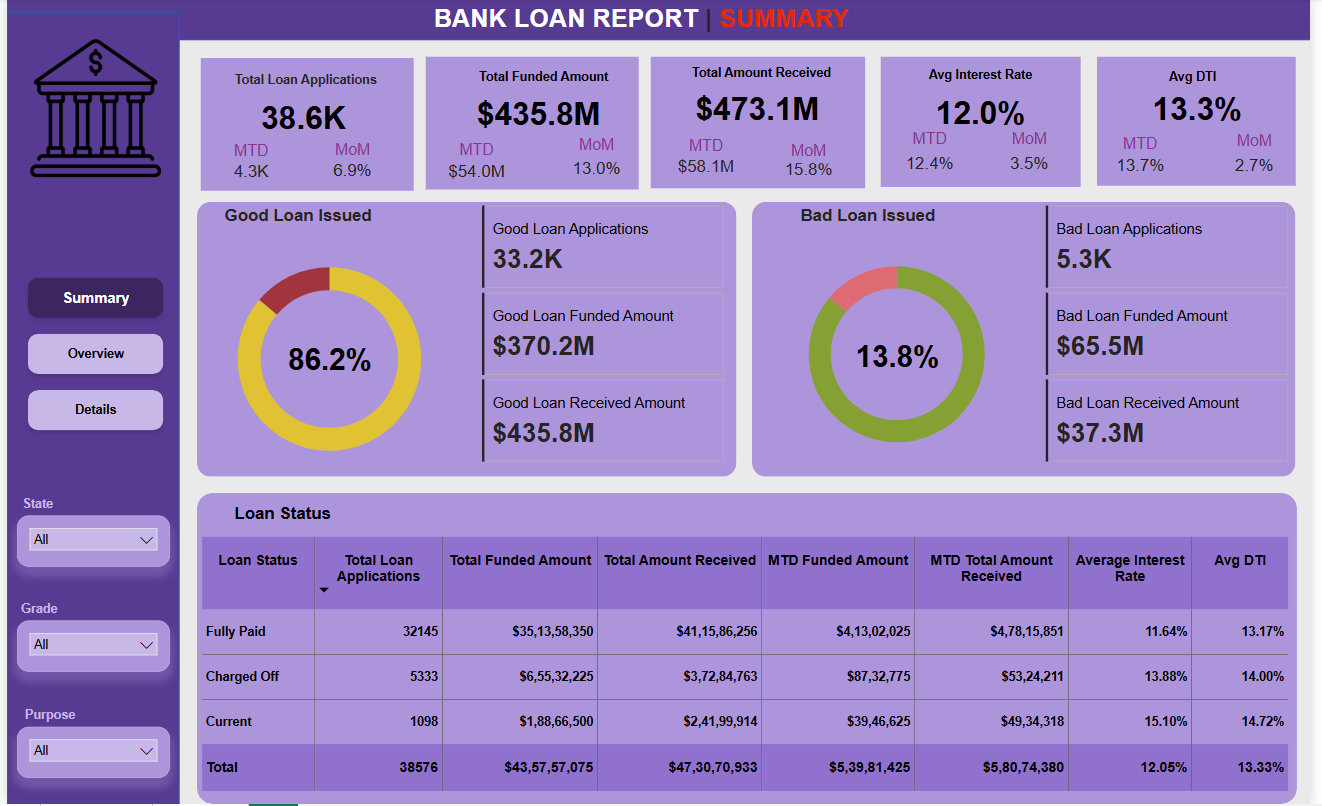

The page's visual inventory and layout, read from the dashboard file:
{"tool":"powerbi","page":{"name":"Summary","canvas":[1650,1020],"ordinal":0},"visuals":[{"type":"shape","box":[0,0,1650,53.3],"z":0},{"type":"shape","box":[0,16.7,218.3,1003.3],"z":1000},{"type":"textbox","box":[516.7,3.3,575,53.3],"z":2000},{"type":"shape","box":[530,75,270,168.3],"z":2000,"group":"g6"},{"type":"shape","box":[815,75,271.7,166.7],"z":2000,"group":"g7"},{"type":"shape","box":[1105,75,253.3,165],"z":2000,"group":"g8"},{"type":"shape","box":[1380,75,251.7,163.3],"z":2000,"group":"g9"},{"type":"shape","box":[245,75.6,270,168.3],"z":2000,"group":"g10"},{"type":"group","id":"g1","title":"Group 1","box":[245,75.6,270,168.3],"z":3000},{"type":"card","fields":{"Values":["bankloandataset.Total Amount Received"]},"box":[841,116.1,218.3,45],"z":4000,"group":"g7"},{"type":"card","fields":{"Values":["bankloandataset.Avg DTI"]},"box":[1408,118.3,196.7,43.3],"z":4000,"group":"g9"},{"type":"card","fields":{"Values":["bankloandataset.Total Loan Applications"]},"box":[266.7,119.7,215,60],"z":4000,"group":"g10"},{"type":"card","fields":{"Values":["bankloandataset.Average Interest Rate"]},"box":[1128.4,120.5,205,46.7],"z":4000,"group":"g8"},{"type":"card","fields":{"Values":["bankloandataset.Total Funded Amount"]},"box":[574.7,120.6,196.7,50],"z":4000,"group":"g6"},{"type":"shape","box":[240,258.3,683.3,348.3],"z":4000},{"type":"textbox","box":[839.4,81.3,220,31.7],"z":5000,"group":"g7"},{"type":"textbox","box":[1130.1,84.3,201.7,30],"z":5000,"group":"g8"},{"type":"textbox","box":[549.7,85.6,235,36.7],"z":5000,"group":"g6"},{"type":"textbox","box":[1393.1,86.7,216.7,30],"z":5000,"group":"g9"},{"type":"textbox","box":[263.3,89.7,223.3,43.3],"z":5000,"group":"g10"},{"type":"shape","box":[240,626.7,1391.7,393.3],"z":5000},{"type":"group","id":"g2","title":"Group 1","box":[530,75,271.7,168.3],"z":6000},{"type":"card","title":"MTD","fields":{"Values":["bankloandataset.MTD Avg Int Rate"]},"box":[1115.1,166,105,65],"z":6000,"group":"g8"},{"type":"card","title":"MTD","fields":{"Values":["bankloandataset.MTD Avg DTI"]},"box":[1386.4,173.3,96.7,56.7],"z":6000,"group":"g9"},{"type":"card","title":"MTD","fields":{"Values":["bankloandataset.MTD Total Amount Received"]},"box":[831,176.1,108.3,55],"z":6000,"group":"g7"},{"type":"card","title":"MTD","fields":{"Values":["bankloandataset.MTD Funded Amount"]},"box":[544.7,180.6,100,56.7],"z":6000,"group":"g6"},{"type":"card","title":"MTD","fields":{"Values":["bankloandataset.MTD Loan Applications"]},"box":[265,181.3,86.7,53.3],"z":6000,"group":"g10"},{"type":"card","title":"MoM","fields":{"Values":["bankloandataset.MoM Avg Int Rate"]},"box":[1236.8,166,113.3,65],"z":7000,"group":"g8"},{"type":"card","title":"MoM","fields":{"Values":["bankloandataset.MoM Avg DTI"]},"box":[1536.4,170,85,63.3],"z":7000,"group":"g9"},{"type":"card","title":"MoM","fields":{"Values":["bankloandataset.MoM Total Funded Amount"]},"box":[693.7,175.1,106.7,61.7],"z":7000,"group":"g6"},{"type":"card","title":"MoM","fields":{"Values":["bankloandataset.MoM Loan Applications"]},"box":[391.7,179.7,90,55],"z":7000,"group":"g10"},{"type":"card","title":"MoM","fields":{"Values":["bankloandataset.MoM Total Amount Received"]},"box":[957.7,182.8,115,50],"z":7000,"group":"g7"},{"type":"card","fields":{"Values":["bankloandataset.Good Loan %"]},"box":[333.3,433.3,150,46.7],"z":7000},{"type":"textbox","box":[240,258.3,250,36.7],"z":8000},{"type":"group","id":"g3","title":"Group 1","box":[815,75,271.7,166.7],"z":9000},{"type":"group","id":"g4","title":"Group 1","box":[1105,75,253.3,165],"z":10000},{"type":"donutChart","fields":{"Category":["bankloandataset.Good Vs Bad Loan"],"Y":["bankloandataset.Total Loan Applications"]},"box":[240,306.7,335,300],"z":11000},{"type":"group","id":"g5","title":"Group 1","box":[1380,75,251.7,163.3],"z":12000},{"type":"shape","box":[943.3,258.3,688.3,348.3],"z":13000},{"type":"cardVisual","fields":{"Data":["bankloandataset.Good Loan Applications","bankloandataset.Good Loan Funded Amount","bankloandataset.Good Loan Received Amount"]},"box":[596.7,258.3,316.7,336.7],"z":14000},{"type":"donutChart","fields":{"Category":["bankloandataset.Good Vs Bad Loan"],"Y":["bankloandataset.Total Loan Applications"]},"box":[958.3,306.7,335,288.3],"z":15000},{"type":"textbox","box":[968.3,258.3,236.7,36.7],"z":16000},{"type":"card","fields":{"Values":["bankloandataset.Bad Loan %"]},"box":[1051.7,428.3,150,46.7],"z":17000},{"type":"cardVisual","fields":{"Data":["bankloandataset.Bad Loan Applications","bankloandataset.Bad Loan Funded Amount","bankloandataset.Bad Loan Received Amount"]},"box":[1310,258.3,316.7,336.7],"z":18000},{"type":"tableEx","fields":{"Values":["bankloandataset.loan_status","bankloandataset.Total Loan Applications","bankloandataset.Total Funded Amount","bankloandataset.Total Amount Received","bankloandataset.MTD Funded Amount","bankloandataset.MTD Total Amount Received","bankloandataset.Average Interest Rate","bankloandataset.Avg DTI"]},"box":[240,676.7,1386.7,343.3],"z":19000},{"type":"textbox","box":[253.3,636.7,218.3,51.7],"z":20000},{"type":"slicer","fields":{"Values":["bankloandataset.address_state"]},"box":[13.3,655,193.3,65],"z":21000},{"type":"textbox","box":[15,626.7,96.7,28.3],"z":22000},{"type":"slicer","fields":{"Values":["bankloandataset.grade"]},"box":[13.3,788.3,193.3,65],"z":23000},{"type":"textbox","box":[13.3,760,96.7,28.3],"z":24000},{"type":"slicer","fields":{"Values":["bankloandataset.purpose"]},"box":[13.3,921.7,193.3,65],"z":25000},{"type":"textbox","box":[16.7,893.3,95,28.3],"z":26000},{"type":"group","id":"g6","title":"Group 3","box":[530,75,270.4,168.3],"z":26005,"group":"g2"},{"type":"group","id":"g7","title":"Group 4","box":[815,75,271.7,166.7],"z":26005,"group":"g3"},{"type":"group","id":"g8","title":"Group 5","box":[1105,75,253.3,165],"z":26005,"group":"g4"},{"type":"group","id":"g9","title":"Group 6","box":[1380,75,251.7,163.3],"z":26005,"group":"g5"},{"type":"group","id":"g10","title":"Group 2","box":[245,75.6,270,168.3],"z":26005,"group":"g1"},{"type":"image","box":[16.7,3.3,190,273.3],"z":27000},{"type":"pageNavigator","box":[16.7,345,190,213.3],"z":28000}]}

Visuals, with their boxes in screenshot pixels (x1, y1, x2, y2), scaled from the page's 1650x1020 canvas onto the 1322x806 screenshot:
shape: <region>0, 0, 1321, 42</region>
shape: <region>0, 13, 175, 805</region>
textbox: <region>414, 3, 875, 45</region>
shape: <region>425, 59, 641, 192</region>
shape: <region>653, 59, 871, 191</region>
shape: <region>885, 59, 1088, 190</region>
shape: <region>1106, 59, 1307, 188</region>
shape: <region>196, 60, 413, 193</region>
"Group 1" group: <region>196, 60, 413, 193</region>
card - bankloandataset.Total Amount Received: <region>674, 92, 849, 127</region>
card - bankloandataset.Avg DTI: <region>1128, 93, 1286, 128</region>
card - bankloandataset.Total Loan Applications: <region>214, 95, 386, 142</region>
card - bankloandataset.Average Interest Rate: <region>904, 95, 1068, 132</region>
card - bankloandataset.Total Funded Amount: <region>460, 95, 618, 135</region>
shape: <region>192, 204, 740, 479</region>
textbox: <region>673, 64, 849, 89</region>
textbox: <region>905, 67, 1067, 90</region>
textbox: <region>440, 68, 629, 97</region>
textbox: <region>1116, 69, 1290, 92</region>
textbox: <region>211, 71, 390, 105</region>
shape: <region>192, 495, 1307, 805</region>
"Group 1" group: <region>425, 59, 642, 192</region>
"MTD" card: <region>893, 131, 978, 183</region>
"MTD" card: <region>1111, 137, 1188, 182</region>
"MTD" card: <region>666, 139, 753, 183</region>
"MTD" card: <region>436, 143, 517, 188</region>
"MTD" card: <region>212, 143, 282, 185</region>
"MoM" card: <region>991, 131, 1082, 183</region>
"MoM" card: <region>1231, 134, 1299, 184</region>
"MoM" card: <region>556, 138, 641, 187</region>
"MoM" card: <region>314, 142, 386, 185</region>
"MoM" card: <region>767, 144, 859, 184</region>
card - bankloandataset.Good Loan %: <region>267, 342, 387, 379</region>
textbox: <region>192, 204, 393, 233</region>
"Group 1" group: <region>653, 59, 871, 191</region>
"Group 1" group: <region>885, 59, 1088, 190</region>
donutChart - bankloandataset.Good Vs Bad Loan x bankloandataset.Total Loan Applications: <region>192, 242, 461, 479</region>
"Group 1" group: <region>1106, 59, 1307, 188</region>
shape: <region>756, 204, 1307, 479</region>
cardVisual - bankloandataset.Good Loan Applications x bankloandataset.Good Loan Funded Amount: <region>478, 204, 732, 470</region>
donutChart - bankloandataset.Good Vs Bad Loan x bankloandataset.Total Loan Applications: <region>768, 242, 1036, 470</region>
textbox: <region>776, 204, 965, 233</region>
card - bankloandataset.Bad Loan %: <region>843, 338, 963, 375</region>
cardVisual - bankloandataset.Bad Loan Applications x bankloandataset.Bad Loan Funded Amount: <region>1050, 204, 1303, 470</region>
tableEx - bankloandataset.loan_status x bankloandataset.Total Loan Applications: <region>192, 535, 1303, 805</region>
textbox: <region>203, 503, 378, 544</region>
slicer - bankloandataset.address_state: <region>11, 518, 166, 569</region>
textbox: <region>12, 495, 89, 518</region>
slicer - bankloandataset.grade: <region>11, 623, 166, 674</region>
textbox: <region>11, 601, 88, 623</region>
slicer - bankloandataset.purpose: <region>11, 728, 166, 780</region>
textbox: <region>13, 706, 89, 728</region>
"Group 3" group: <region>425, 59, 641, 192</region>
"Group 4" group: <region>653, 59, 871, 191</region>
"Group 5" group: <region>885, 59, 1088, 190</region>
"Group 6" group: <region>1106, 59, 1307, 188</region>
"Group 2" group: <region>196, 60, 413, 193</region>
image: <region>13, 3, 166, 219</region>
pageNavigator: <region>13, 273, 166, 441</region>
